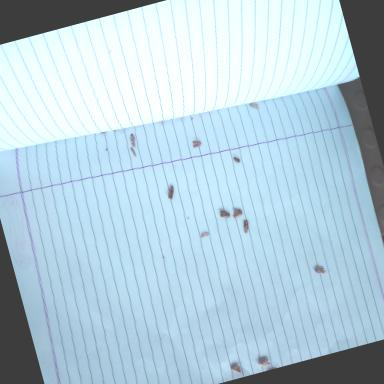pbw: (231, 364, 244, 378), (128, 132, 138, 149), (166, 185, 177, 200), (314, 264, 327, 276), (232, 207, 244, 218), (219, 208, 231, 219), (242, 218, 250, 234), (192, 138, 202, 148), (249, 101, 260, 110), (258, 358, 270, 366), (130, 146, 136, 156)
